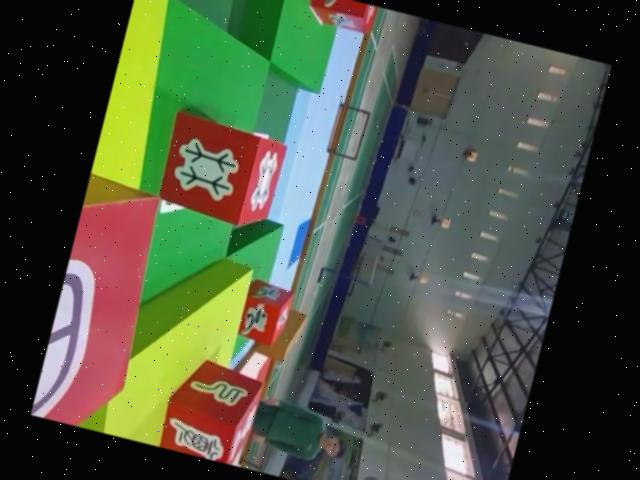R1: (230, 275, 293, 350), (300, 0, 381, 39)
R2 Fake: (29, 170, 177, 437), (153, 351, 267, 469)
R2 Real: (147, 105, 292, 240)
